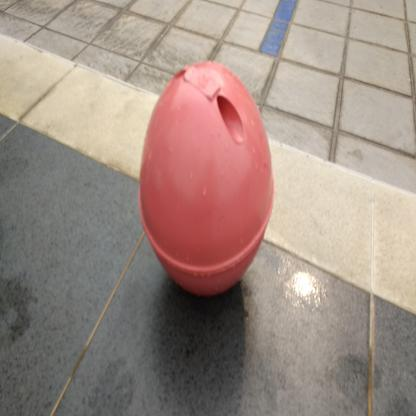red_buoy: (132, 55, 278, 308)
